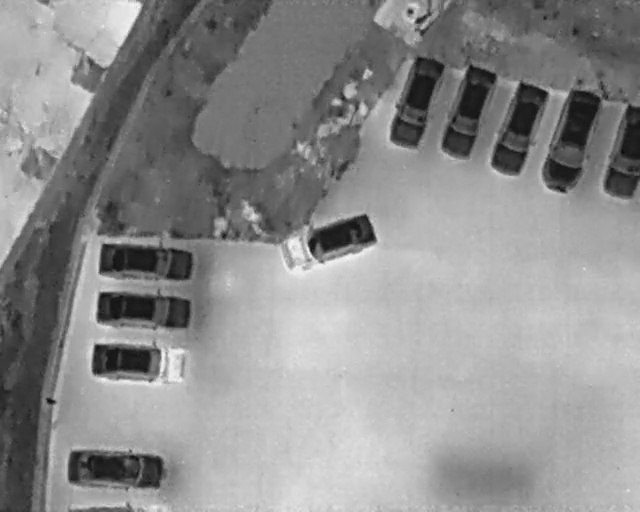Car: (529, 81, 612, 202), (482, 75, 554, 182), (272, 209, 383, 277), (435, 58, 503, 166), (383, 49, 449, 157), (63, 444, 170, 495), (87, 336, 191, 388), (92, 286, 194, 335), (93, 239, 197, 282), (600, 100, 639, 202)
